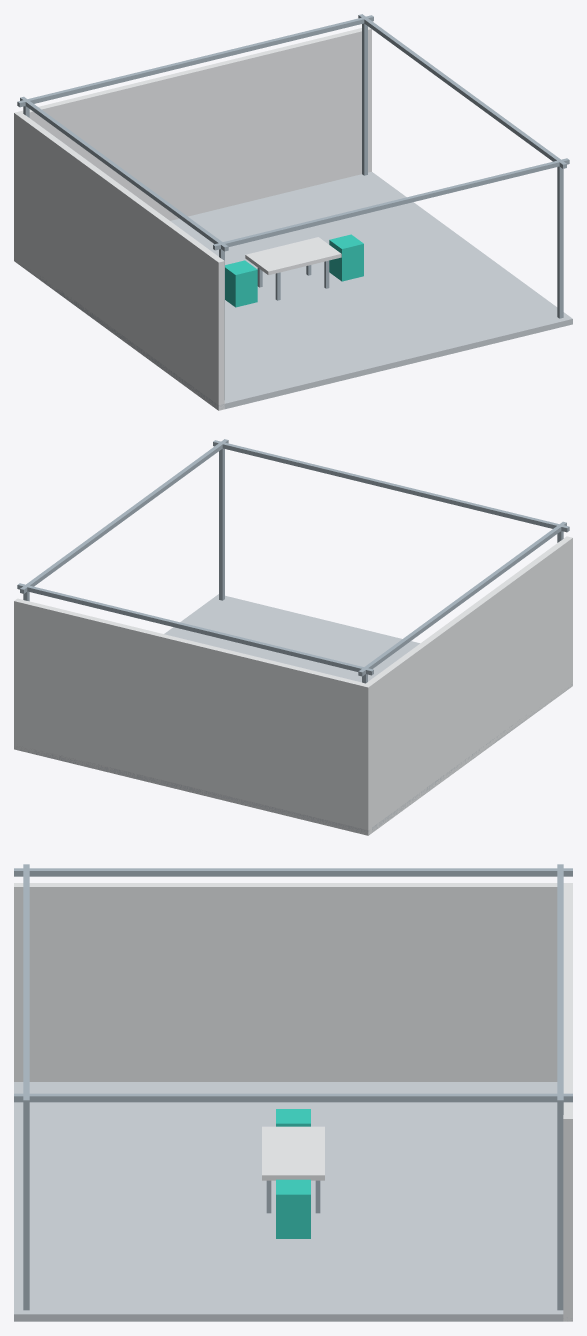
The picture shows the model from 3 angles, top to bottom: view 1: azimuth 30°, elevation 25°; view 2: azimuth 150°, elevation 25°; view 3: azimuth 270°, elevation 25°; orthographic projection. The views are drawn at different scales.
Visible parts, largest first — view 1: Exhibition Booth Concept; view 2: Exhibition Booth Concept; view 3: Exhibition Booth Concept.
Boxes of the visible parts, <box> form: Exhibition Booth Concept: <box>14,14,572,410</box>; Exhibition Booth Concept: <box>14,439,572,835</box>; Exhibition Booth Concept: <box>14,864,572,1321</box>.
Bounding box in the file's own units: 8 × 3.49 × 8.
